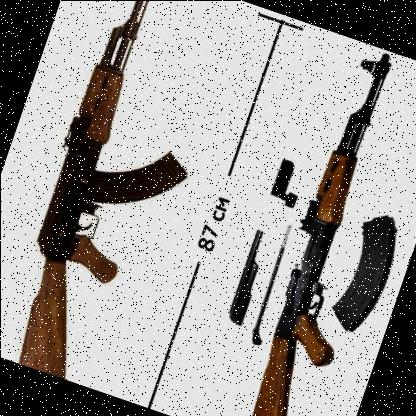rifle: (0, 0, 258, 399), (208, 42, 416, 416)
